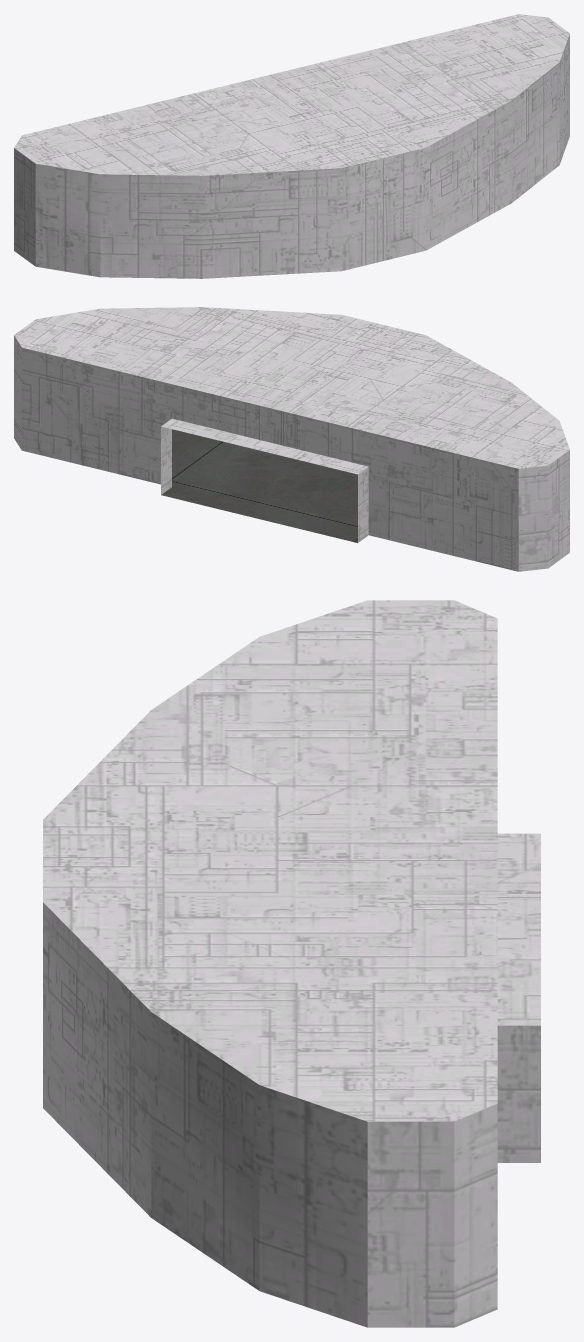
The model's file is thm_spc_star_destroyer_s01_r47_thruster_mesh_r47.fbx.
3 renders of one model, top to bottom at view 1: azimuth 30°, elevation 25°; view 2: azimuth 150°, elevation 25°; view 3: azimuth 270°, elevation 25°, orthographic. The views are drawn at different scales.
Visible parts, largest first — view 1: mesh_node; view 2: mesh_node; view 3: mesh_node.
Boxes of the visible parts, x1,y1,x2,y2 form: mesh_node: [14, 14, 569, 278]; mesh_node: [14, 307, 569, 571]; mesh_node: [43, 600, 540, 1327].
Bounding box in the file's own units: 28.5 × 5.25 × 11.5.
Materials: 2 (2 with a texture image).
